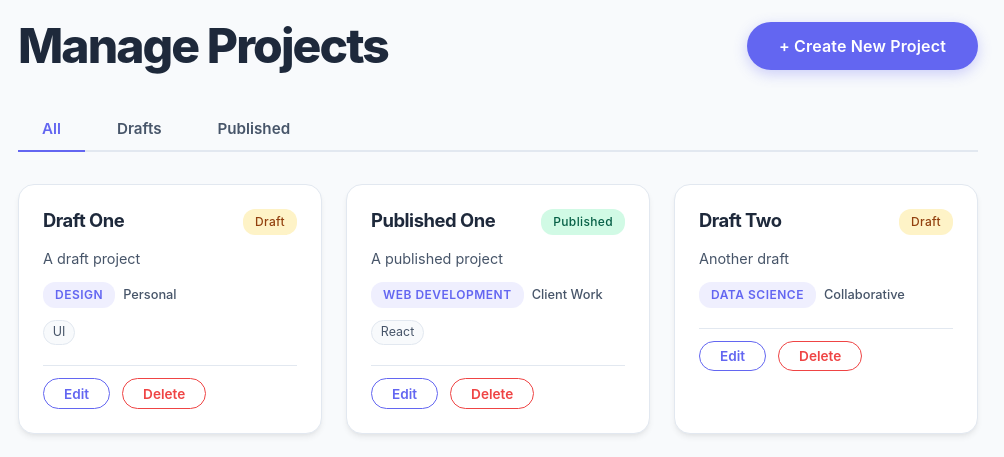
Test: ProjectsManager › Filter tabs › shows only drafts when Drafts tab is clicked
This screenshot has width=1004, height=457.
Click the tab "Drafts": (139, 129) [93, 107, 186, 152]
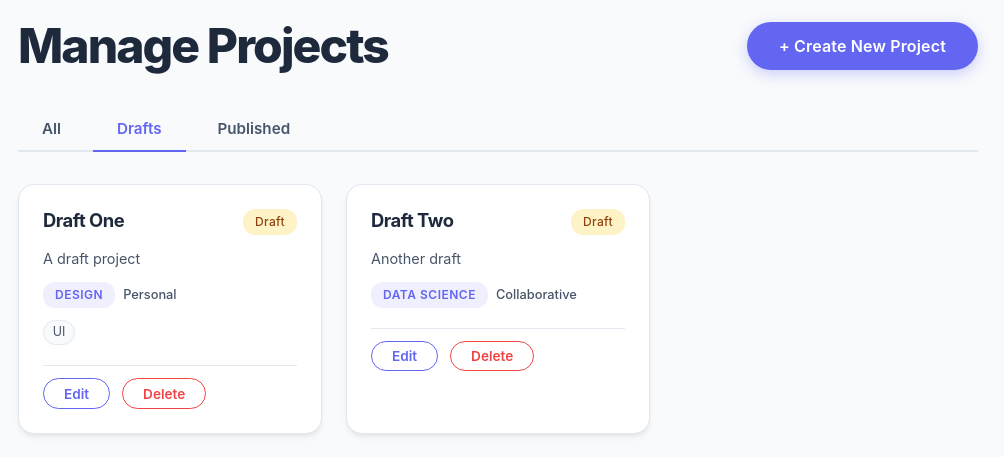
Expected: the heading "Draft One" is shown, [43, 209, 124, 232]
Expected: the heading "Published One" is gone
